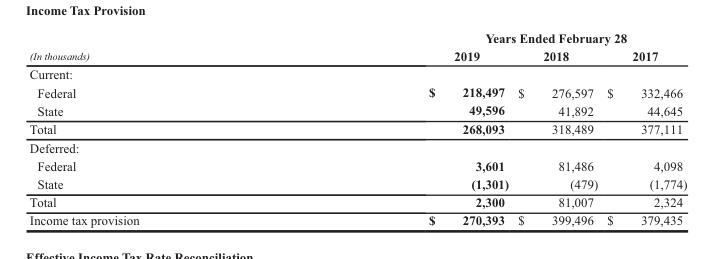table: (28, 28, 686, 228)
table column: (28, 28, 283, 228), (283, 28, 512, 228), (512, 28, 601, 228), (601, 28, 686, 228)
table column header: (28, 28, 686, 64)
table projected row header: (28, 137, 686, 156), (28, 64, 686, 82)
table row: (28, 118, 686, 137), (28, 137, 686, 156), (28, 28, 686, 46), (28, 46, 686, 64), (28, 64, 686, 82), (28, 82, 686, 100), (28, 100, 686, 118), (28, 156, 686, 174), (28, 174, 686, 192), (28, 192, 686, 210), (28, 210, 686, 228)
table spanning cell: (28, 28, 283, 64), (283, 28, 686, 46)
